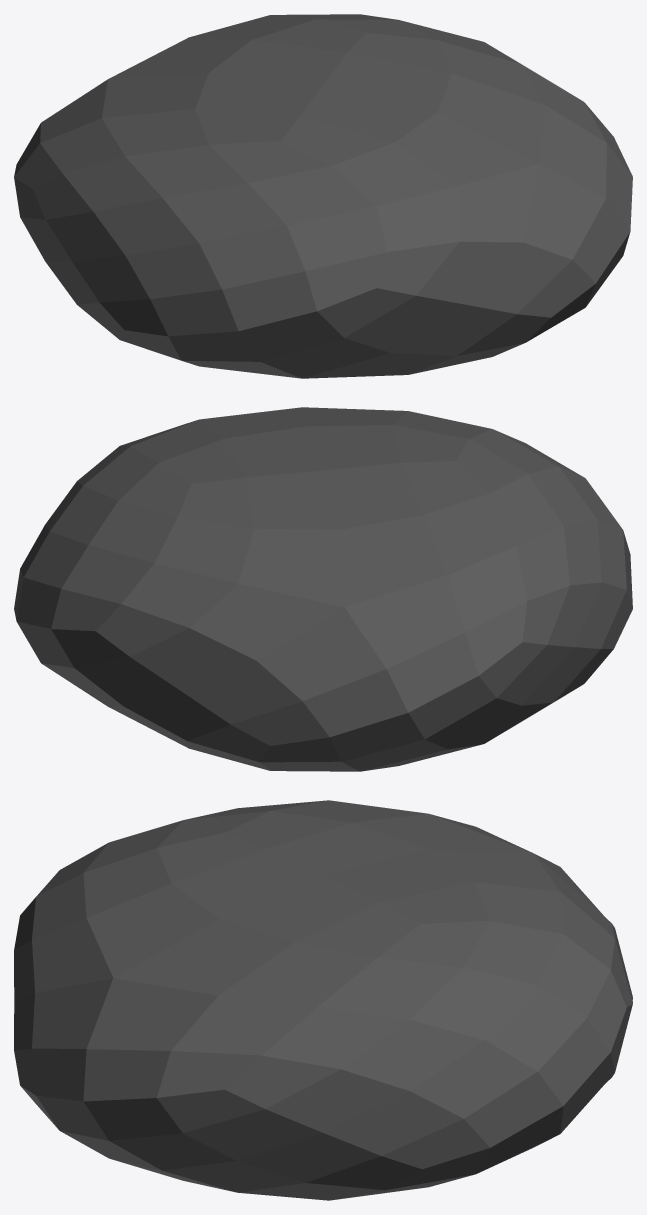
The model's file is Nagemoti.obj.
3 renders of one model, top to bottom at view 1: azimuth 30°, elevation 25°; view 2: azimuth 150°, elevation 25°; view 3: azimuth 270°, elevation 25°, orthographic. The views are drawn at different scales.
Parts seen in each view (by area): view 1: 立方体; view 2: 立方体; view 3: 立方体.
Part boxes in pixels (x1=…): 立方体: x1=14, y1=14, x2=632, y2=378; 立方体: x1=14, y1=407, x2=632, y2=771; 立方体: x1=14, y1=800, x2=632, y2=1200.
Size of the model in its own units: 2.18 by 0.9588 by 2.15.
1 material, 1 textured.
